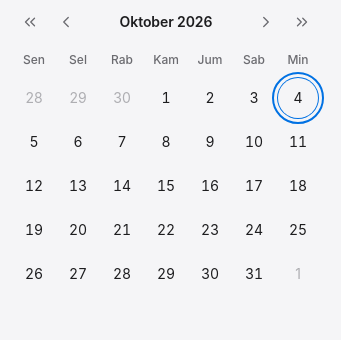
Test: Calendar: navigation › moves by month and by year
Click the button named "Bulan berikutnya" at (266, 22), box x1=248 y1=4 x2=284 y2=40
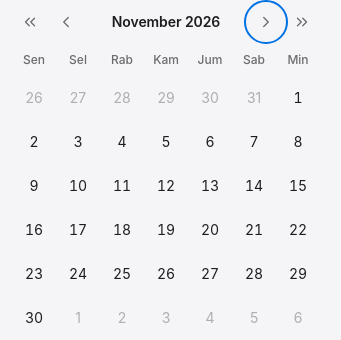
Result: the heading "November 2026" is shown at x1=112 y1=12 x2=220 y2=32
Click the button named "Tahun sebelumnya" at (30, 22), box x1=12 y1=4 x2=48 y2=40
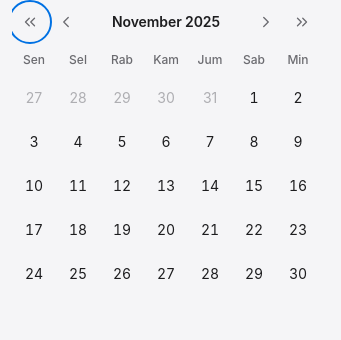
Result: the heading "November 2025" is shown at x1=112 y1=12 x2=220 y2=32
Click the button named "Bulan sebelumnya" at (66, 22), box x1=48 y1=4 x2=84 y2=40
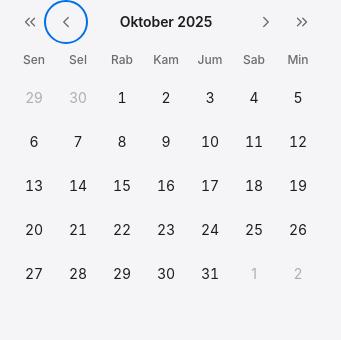
Click the button named "Bulan sebelumnya" at (66, 22), box x1=48 y1=4 x2=84 y2=40
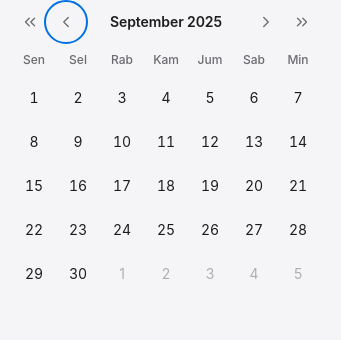
Result: the heading "September 2025" is shown at x1=110 y1=12 x2=222 y2=32
